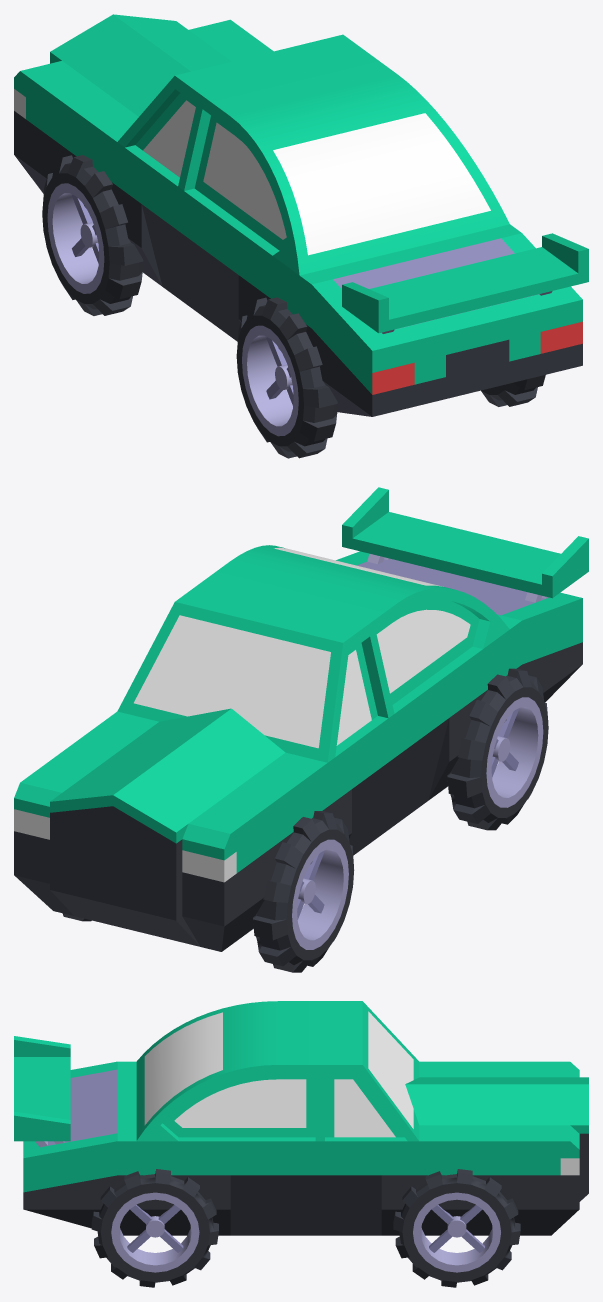
File: car3.fbx
3 renders of one model, top to bottom at view 1: azimuth 30°, elevation 25°; view 2: azimuth 150°, elevation 25°; view 3: azimuth 270°, elevation 25°, orthographic. The views are drawn at different scales.
Visible parts, largest first — view 1: mergedBlocks; view 2: mergedBlocks; view 3: mergedBlocks.
Part boxes in pixels (x1,y1,x2,y2): mergedBlocks: [14, 14, 588, 458]; mergedBlocks: [14, 487, 588, 972]; mergedBlocks: [14, 1001, 588, 1287].
Size of the model in its own units: 11.56 by 12.38 by 30.5.
